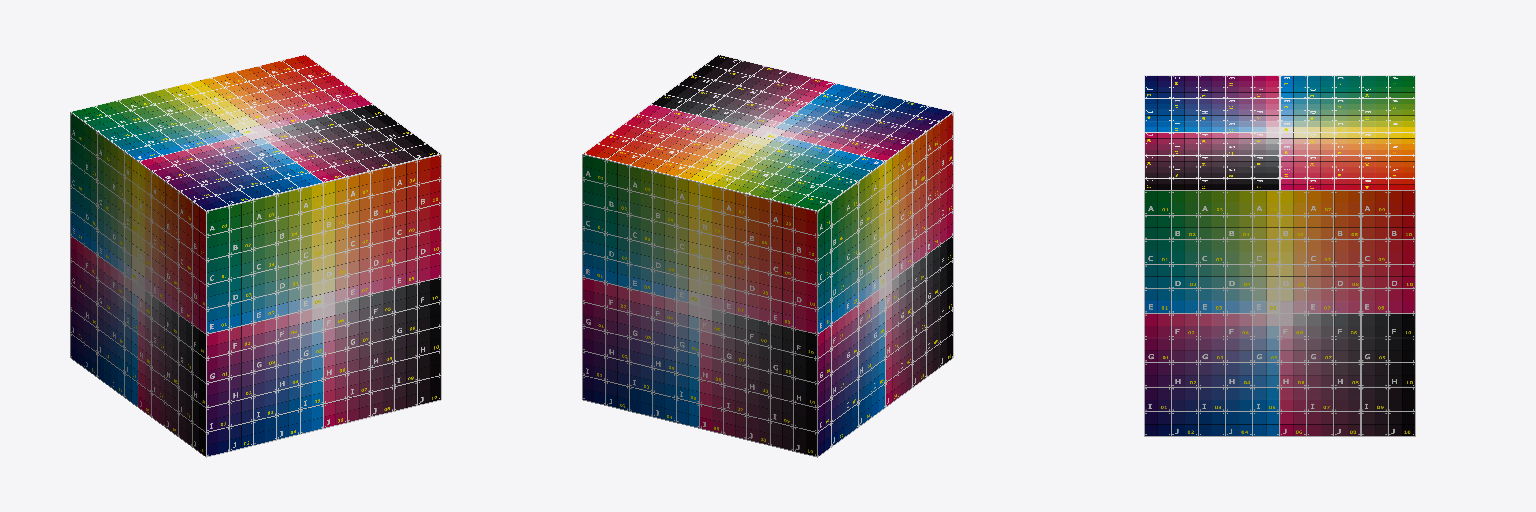
The picture shows the model from 3 angles: view 1: azimuth 30°, elevation 25°; view 2: azimuth 150°, elevation 25°; view 3: azimuth 270°, elevation 25°; orthographic projection.
Visible parts, largest first — view 1: cube; view 2: cube; view 3: cube.
Part boxes in pixels (x1,y1,x2,y2): cube: (70, 54, 441, 457); cube: (582, 54, 953, 457); cube: (1144, 75, 1415, 436).
Bounding box in the file's own units: 1 × 1 × 1.
Materials: 1 (1 with a texture image).